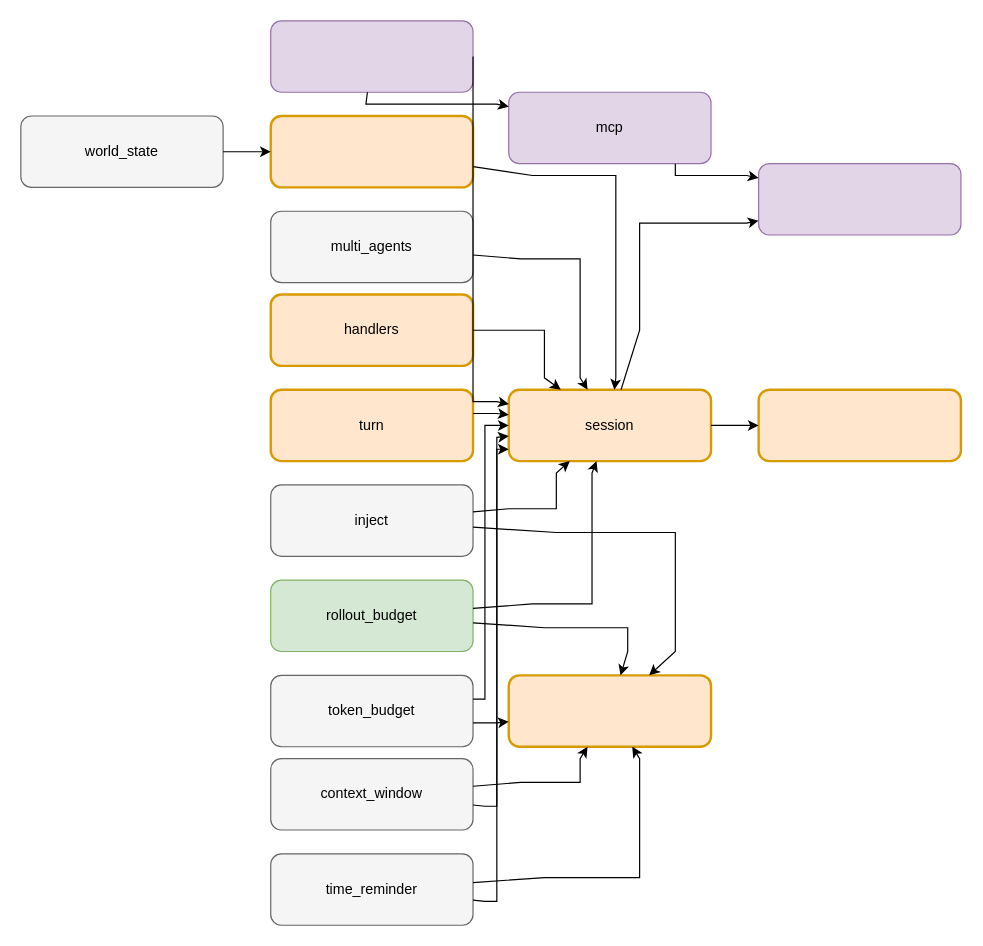
Some shapes in this 983 by 946 pixel diagram are drawn without their labels. The shapes that lost their labels are listed below. From the top down, each one's centre as x and y in pixels, then its label:
At (x=371, y=56): "mcp_runtime".
At (x=371, y=151): "step_context".
At (x=859, y=198): "mcp_refresh".
At (x=859, y=425): "input_queue".
At (x=609, y=710): "turn_context".
